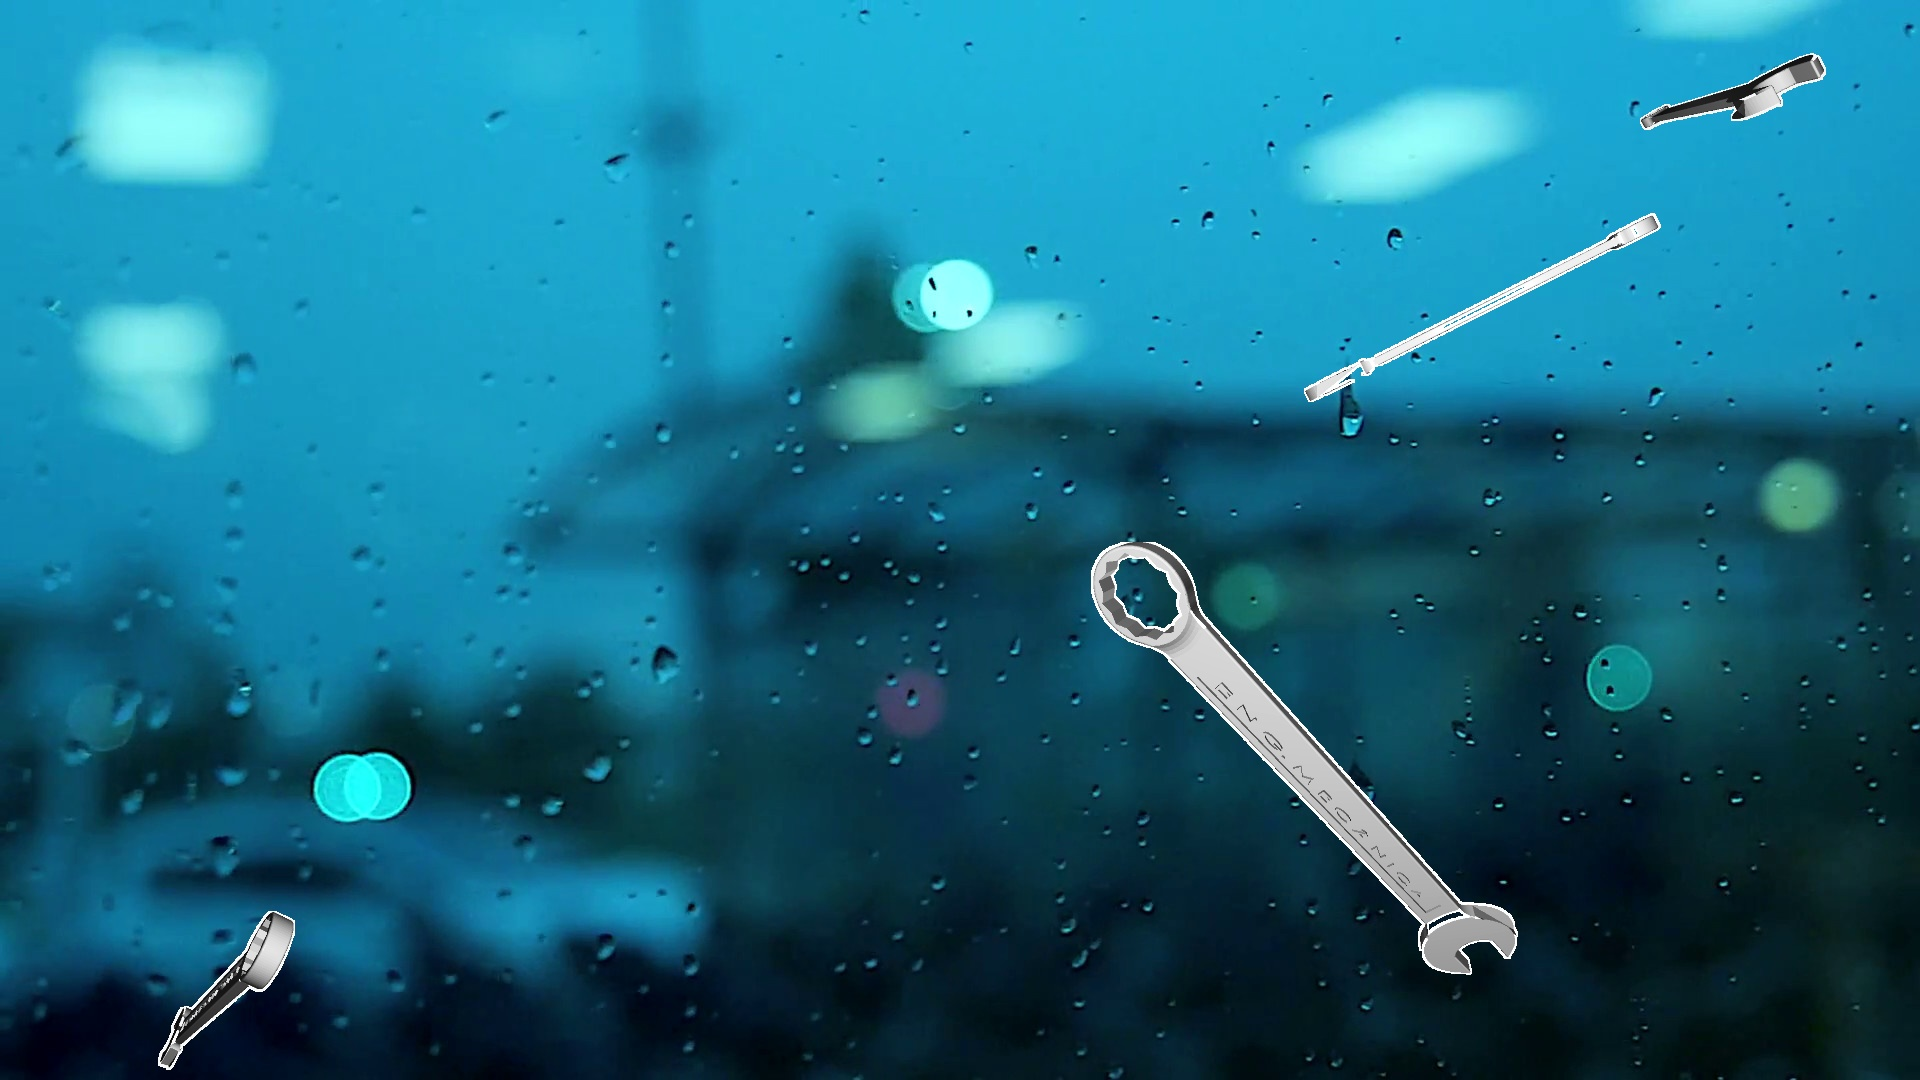Mixed Key: (1091, 542, 1516, 975), (1304, 214, 1660, 401), (158, 911, 294, 1069), (1640, 53, 1825, 129)
